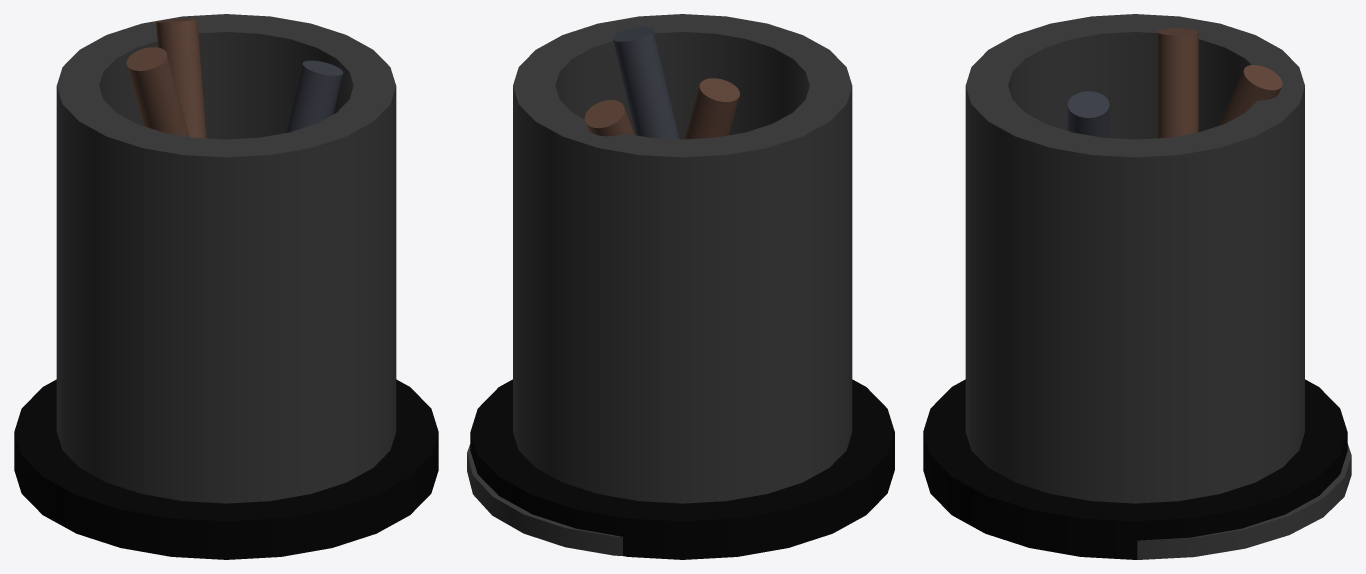
Rendered from pen_holders.fbx.
3 renders of one model, left to right at view 1: azimuth 30°, elevation 25°; view 2: azimuth 150°, elevation 25°; view 3: azimuth 270°, elevation 25°, orthographic.
Parts seen in each view (by area): view 1: mergedBlocks; view 2: mergedBlocks; view 3: mergedBlocks.
Boxes of the visible parts, bbox=[...] form: mergedBlocks: bbox=[14, 14, 438, 559]; mergedBlocks: bbox=[467, 14, 894, 559]; mergedBlocks: bbox=[923, 14, 1351, 559].
Bounding box in the file's own units: 10 × 11.6 × 10.1.
